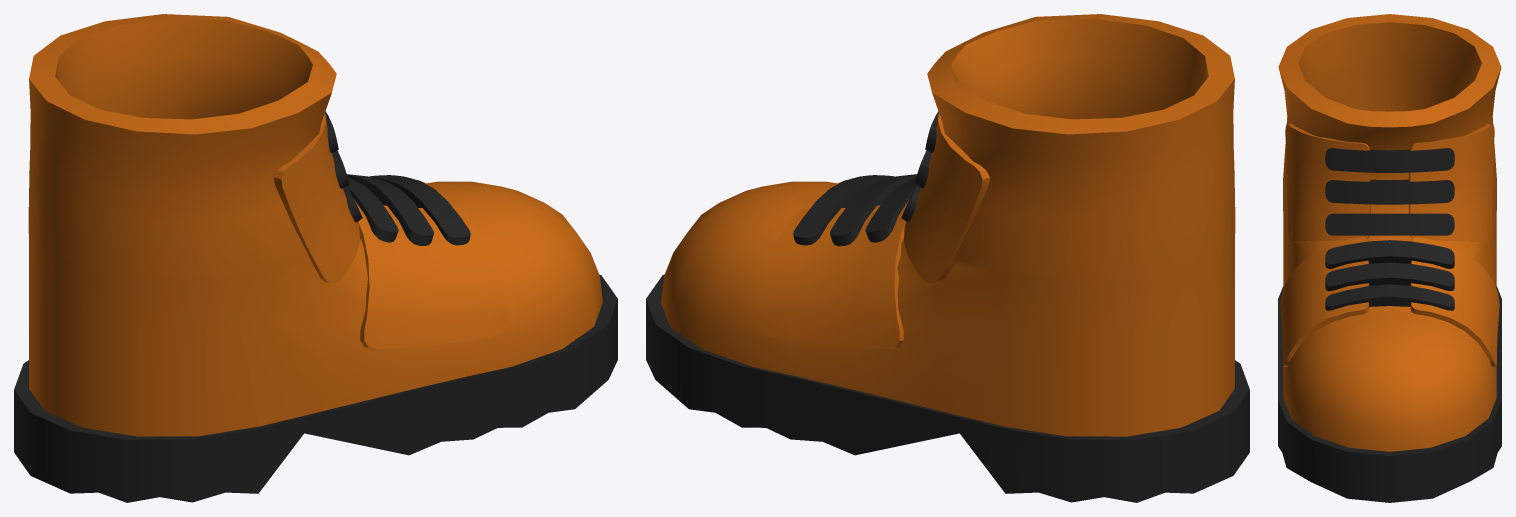
Rendered from hiking_boot.glb.
3 views of the same model, side by side, from view 1: azimuth 30°, elevation 25°; view 2: azimuth 150°, elevation 25°; view 3: azimuth 270°, elevation 25° (orthographic). The views are drawn at different scales.
Visible parts, largest first — view 1: Sphere.366; view 2: Sphere.366; view 3: Sphere.366.
Boxes of the visible parts, <box> form: Sphere.366: <box>14,14,617,502</box>; Sphere.366: <box>646,14,1249,502</box>; Sphere.366: <box>1278,14,1501,502</box>.
Bounding box in the file's own units: 2.24 × 1.4 × 0.9996.
1 material, 1 textured.
